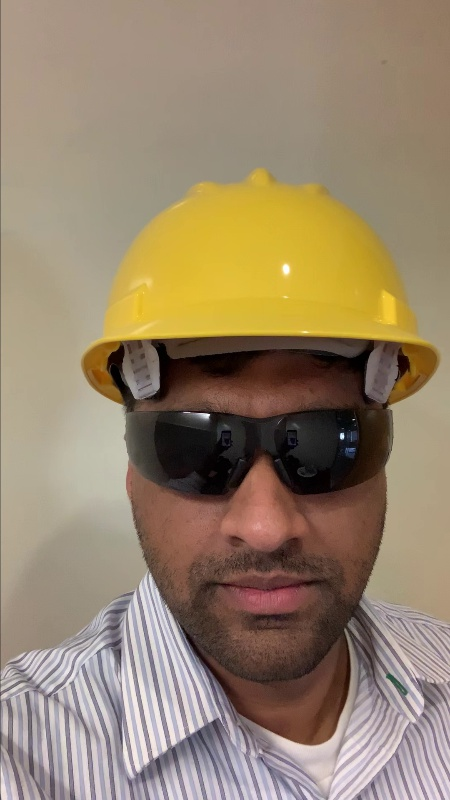glasses: (122, 406, 412, 494)
helmet: (64, 161, 444, 400)
